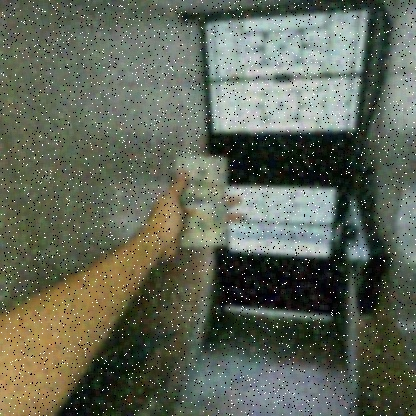one_hundred-front: (173, 149, 233, 254)
